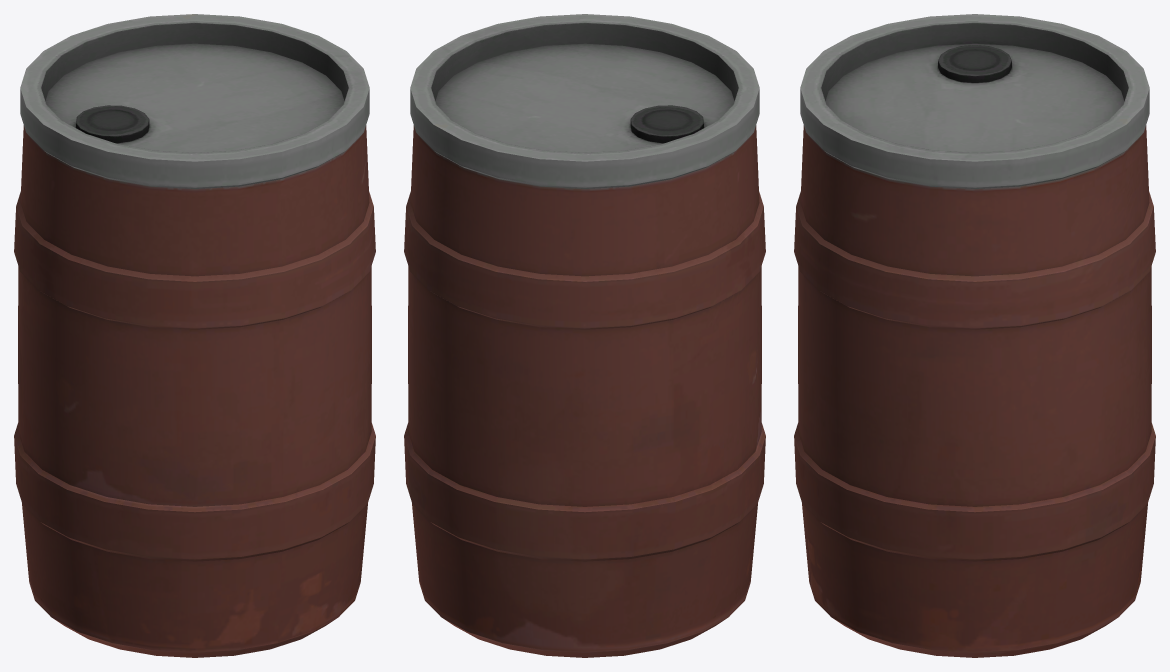
The model's file is barrel01.glb.
3 renders of one model, left to right at view 1: azimuth 30°, elevation 25°; view 2: azimuth 150°, elevation 25°; view 3: azimuth 270°, elevation 25°, orthographic.
Parts seen in each view (by area): view 1: barrel01; view 2: barrel01; view 3: barrel01.
Part boxes in pixels (bbox=[...]): barrel01: bbox=[14, 14, 375, 657]; barrel01: bbox=[404, 14, 765, 657]; barrel01: bbox=[794, 14, 1155, 657].
Size of the model in its own units: 0.9837 by 1.52 by 0.9837.
Materials: 1 (1 with a texture image).
